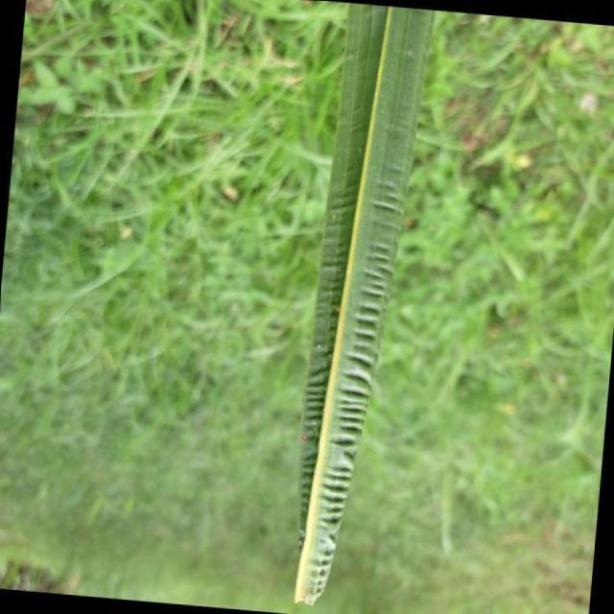Boron: (293, 0, 430, 600)
